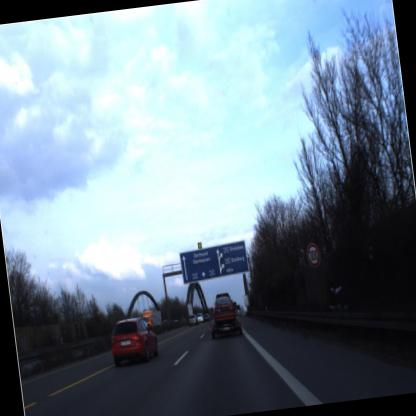prohibitory: (304, 240, 322, 270)
